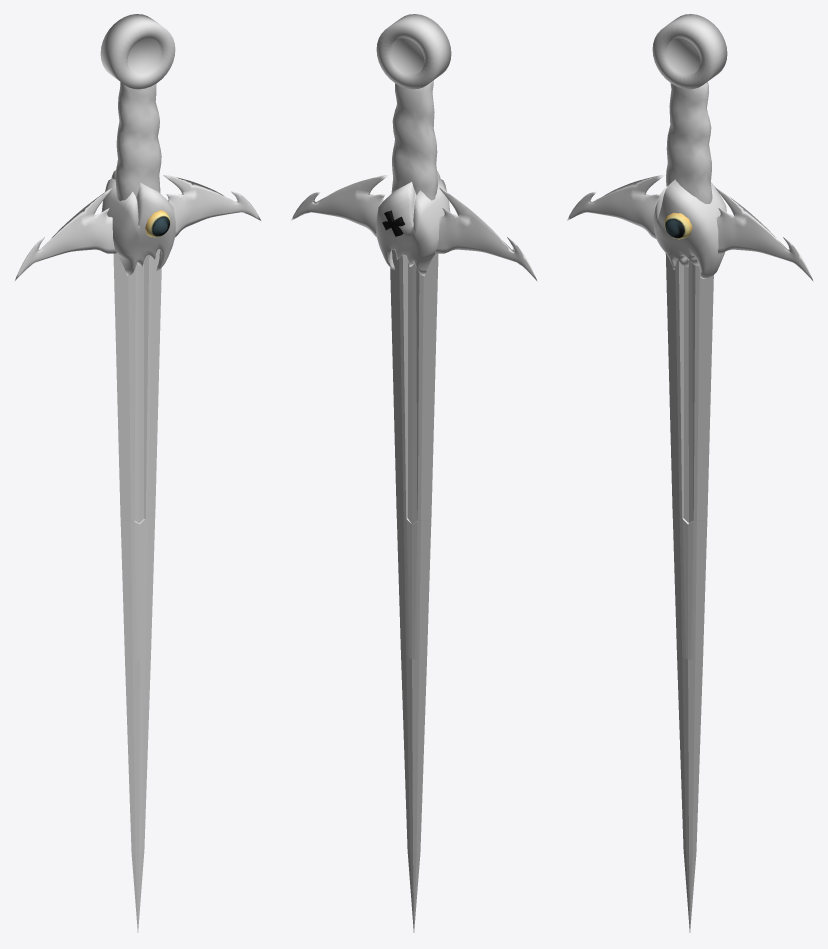
Rendered from Dralmorrer.fbx.
The picture shows the model from 3 angles, left to right: view 1: azimuth 30°, elevation 25°; view 2: azimuth 150°, elevation 25°; view 3: azimuth 330°, elevation 25°; orthographic projection.
Parts seen in each view (by area): view 1: Blade, Fins, Hilt, Pommel, Stupid Fish, Fish Eye; view 2: Blade, Fins, Hilt, Stupid Fish, Pommel; view 3: Blade, Fins, Hilt, Pommel, Stupid Fish, Fish Eye.
Part boxes in pixels (x1,y1,x2,y2): Blade: (113, 249, 161, 932); Fins: (14, 175, 261, 281); Hilt: (115, 82, 161, 200); Pommel: (100, 14, 175, 89); Stupid Fish: (101, 170, 175, 276); Fish Eye: (145, 210, 170, 237); Blade: (390, 249, 438, 932); Fins: (290, 175, 537, 281); Hilt: (391, 80, 437, 200); Stupid Fish: (376, 171, 450, 275); Pommel: (376, 14, 451, 89); Blade: (665, 253, 713, 932); Fins: (566, 175, 813, 281); Hilt: (666, 82, 712, 203); Pommel: (652, 14, 727, 89); Stupid Fish: (653, 179, 726, 278); Fish Eye: (664, 212, 692, 239).
Size of the model in its own units: 123 by 435 by 34.74.
